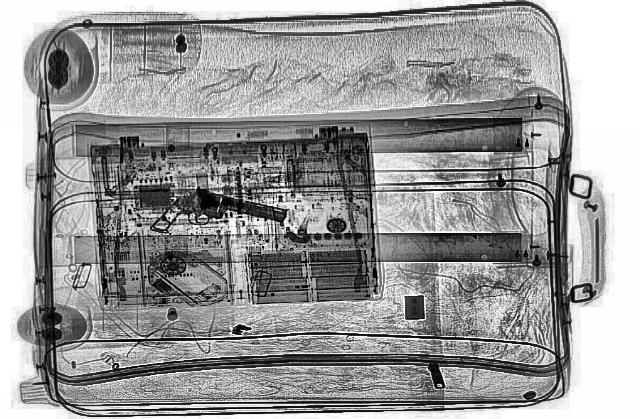Gun: (146, 182, 290, 260)
